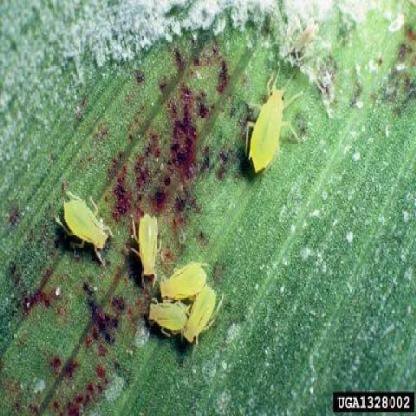aphid: (244, 70, 294, 174), (57, 183, 114, 259), (132, 206, 167, 284), (144, 290, 193, 342), (156, 258, 210, 302), (182, 280, 216, 346)
